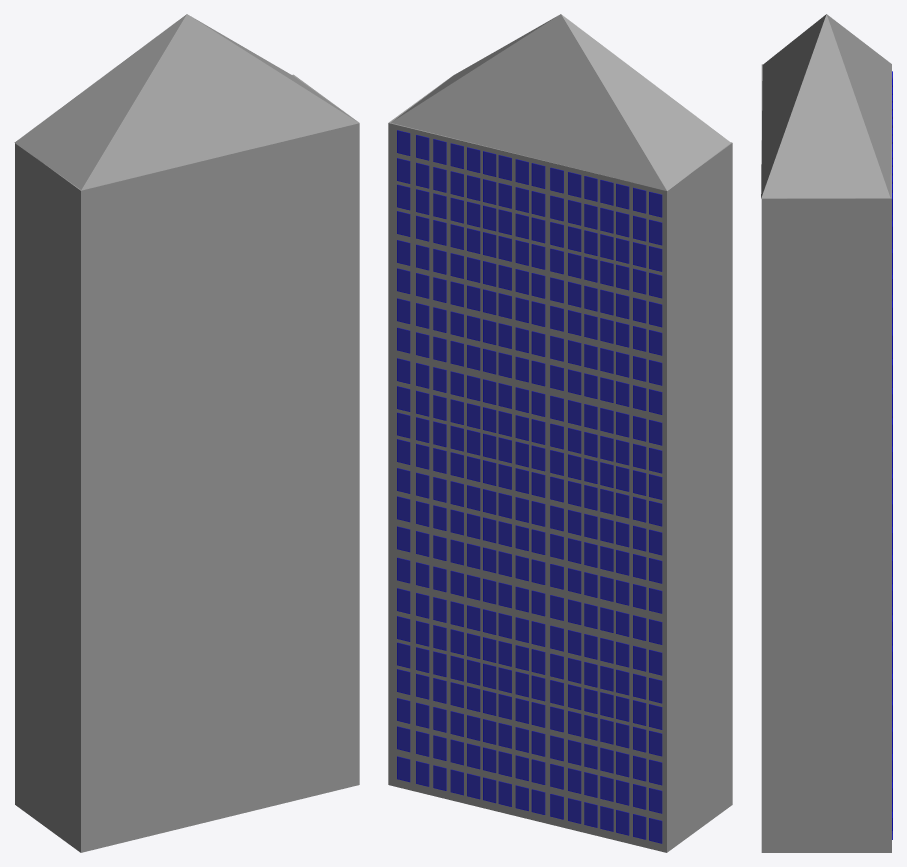
File: Skyscraper.fbx
3 views of the same model, side by side, from view 1: azimuth 30°, elevation 25°; view 2: azimuth 150°, elevation 25°; view 3: azimuth 270°, elevation 25° (orthographic).
Parts seen in each view (by area): view 1: pCube1, pPyramid1; view 2: pCube1, pPyramid1; view 3: pCube1, pPyramid1.
Boxes of the visible parts, x1=… form: pCube1: x1=15, y1=74, x2=359, y2=852; pPyramid1: x1=14, y1=14, x2=359, y2=189; pCube1: x1=388, y1=75, x2=732, y2=852; pPyramid1: x1=391, y1=14, x2=730, y2=190; pCube1: x1=761, y1=64, x2=891, y2=852; pPyramid1: x1=761, y1=14, x2=891, y2=198.
Bounding box in the file's own units: 59.9 × 160 × 24.78.
